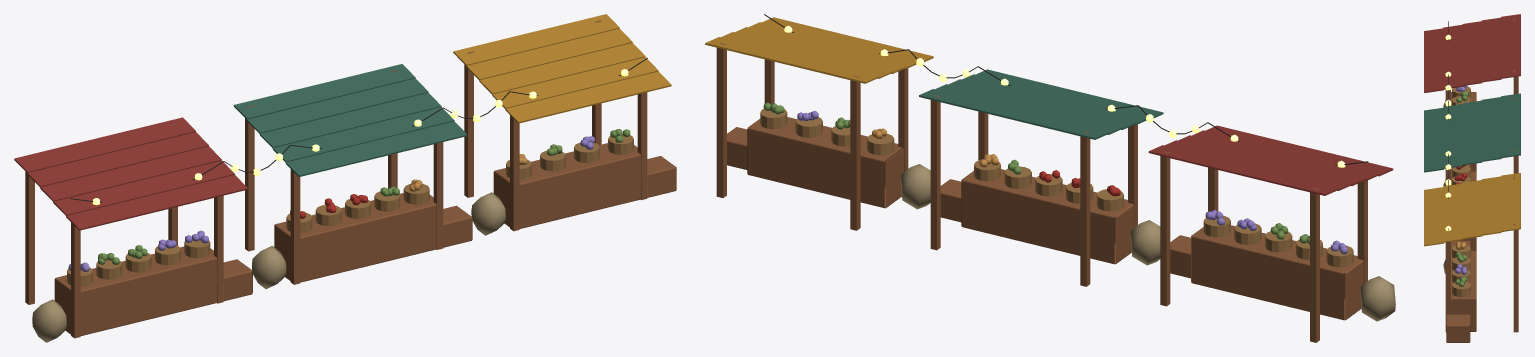
Rendered from mercado_ligero.glb.
The picture shows the model from 3 angles, left to right: view 1: azimuth 30°, elevation 25°; view 2: azimuth 150°, elevation 25°; view 3: azimuth 270°, elevation 25°; orthographic projection. The views are drawn at different scales.
Visible parts, largest first — view 1: puesto0_mostrador, puesto1_mostrador, puesto2_mostrador, puesto1_toldo_0, puesto0_toldo_0, puesto1_toldo_4, puesto0_toldo_4, puesto1_toldo_3, puesto0_toldo_3, puesto1_toldo_2, puesto0_toldo_2, puesto0_toldo_1 (+21 smaller); view 2: puesto1_mostrador, puesto0_mostrador, puesto2_mostrador, puesto0_toldo_4, puesto1_toldo_4, puesto2_toldo_4, puesto0_poste.003, puesto2_poste.002, puesto1_poste.003, puesto1_poste.002, puesto2_poste.003, puesto0_toldo_3 (+21 smaller); view 3: puesto1_toldo_2, puesto0_toldo_2, puesto1_toldo_3, puesto0_toldo_0, puesto0_toldo_3, puesto0_toldo_4, puesto1_toldo_0, puesto1_toldo_4, puesto1_toldo_1, puesto0_toldo_1, puesto2_toldo_3, puesto2_toldo_2 (+18 smaller).
Boxes of the visible parts, x1,y1,x2,y2 form: puesto0_mostrador: (54, 246, 217, 335); puesto1_mostrador: (274, 193, 436, 282); puesto2_mostrador: (493, 143, 640, 228); puesto1_toldo_0: (285, 121, 467, 176); puesto0_toldo_0: (66, 175, 247, 230); puesto1_toldo_4: (234, 64, 415, 119); puesto0_toldo_4: (14, 117, 195, 172); puesto1_toldo_3: (246, 78, 428, 133); puesto0_toldo_3: (27, 132, 208, 187); puesto1_toldo_2: (259, 92, 441, 147); puesto0_toldo_2: (40, 146, 221, 201); puesto0_toldo_1: (53, 160, 234, 216); puesto1_mostrador: (961, 169, 1133, 264); puesto0_mostrador: (1191, 225, 1363, 320); puesto2_mostrador: (747, 117, 903, 208); puesto0_toldo_4: (1148, 145, 1338, 195); puesto1_toldo_4: (919, 89, 1109, 139); puesto2_toldo_4: (705, 37, 879, 83); puesto0_poste.003: (1160, 151, 1170, 306); puesto2_poste.002: (850, 75, 860, 230); puesto1_poste.003: (930, 95, 940, 250); puesto1_poste.002: (1080, 131, 1090, 286); puesto2_poste.003: (716, 43, 726, 197); puesto0_toldo_3: (1164, 140, 1352, 190); puesto1_toldo_2: (1462, 100, 1482, 165); puesto0_toldo_2: (1462, 21, 1482, 85); puesto1_toldo_3: (1481, 97, 1501, 161); puesto0_toldo_0: (1424, 28, 1443, 92); puesto0_toldo_3: (1481, 17, 1501, 82); puesto0_toldo_4: (1501, 14, 1520, 78); puesto1_toldo_0: (1424, 108, 1443, 172); puesto1_toldo_4: (1501, 93, 1520, 158); puesto1_toldo_1: (1443, 104, 1463, 168); puesto0_toldo_1: (1443, 24, 1463, 89); puesto2_toldo_3: (1481, 176, 1501, 235); puesto2_toldo_2: (1462, 180, 1482, 239).
Bounding box in the file's own units: 12.48 × 2.79 × 2.22.
